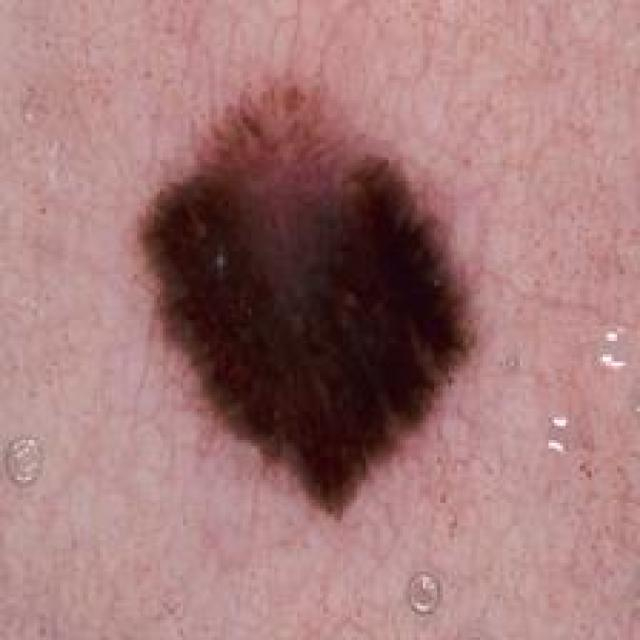Cancer: (134, 74, 474, 517)
